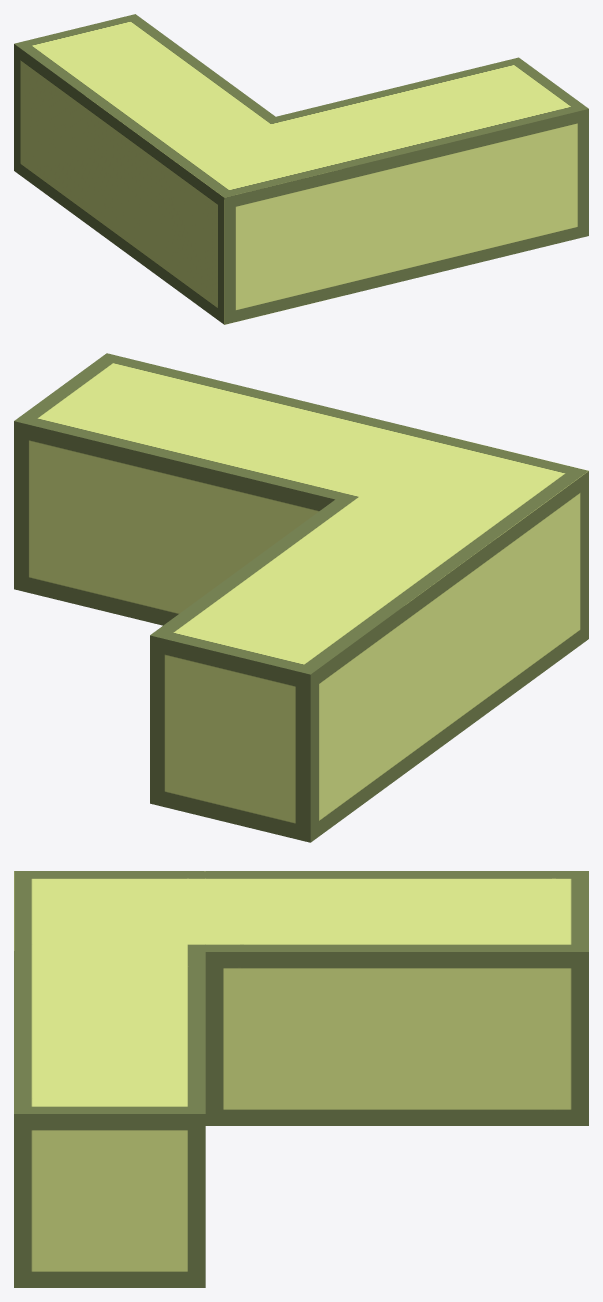
The model's file is CursorQuarter.fbx.
3 views of the same model, one above another, from view 1: azimuth 30°, elevation 25°; view 2: azimuth 150°, elevation 25°; view 3: azimuth 270°, elevation 25° (orthographic). The views are drawn at different scales.
Parts seen in each view (by area): view 1: CursorQuarter; view 2: CursorQuarter; view 3: CursorQuarter.
Boxes of the visible parts, <box> form: CursorQuarter: <box>14,14,588,324</box>; CursorQuarter: <box>14,353,588,842</box>; CursorQuarter: <box>14,871,588,1287</box>.
Size of the model in its own units: 30 by 10 by 30.
